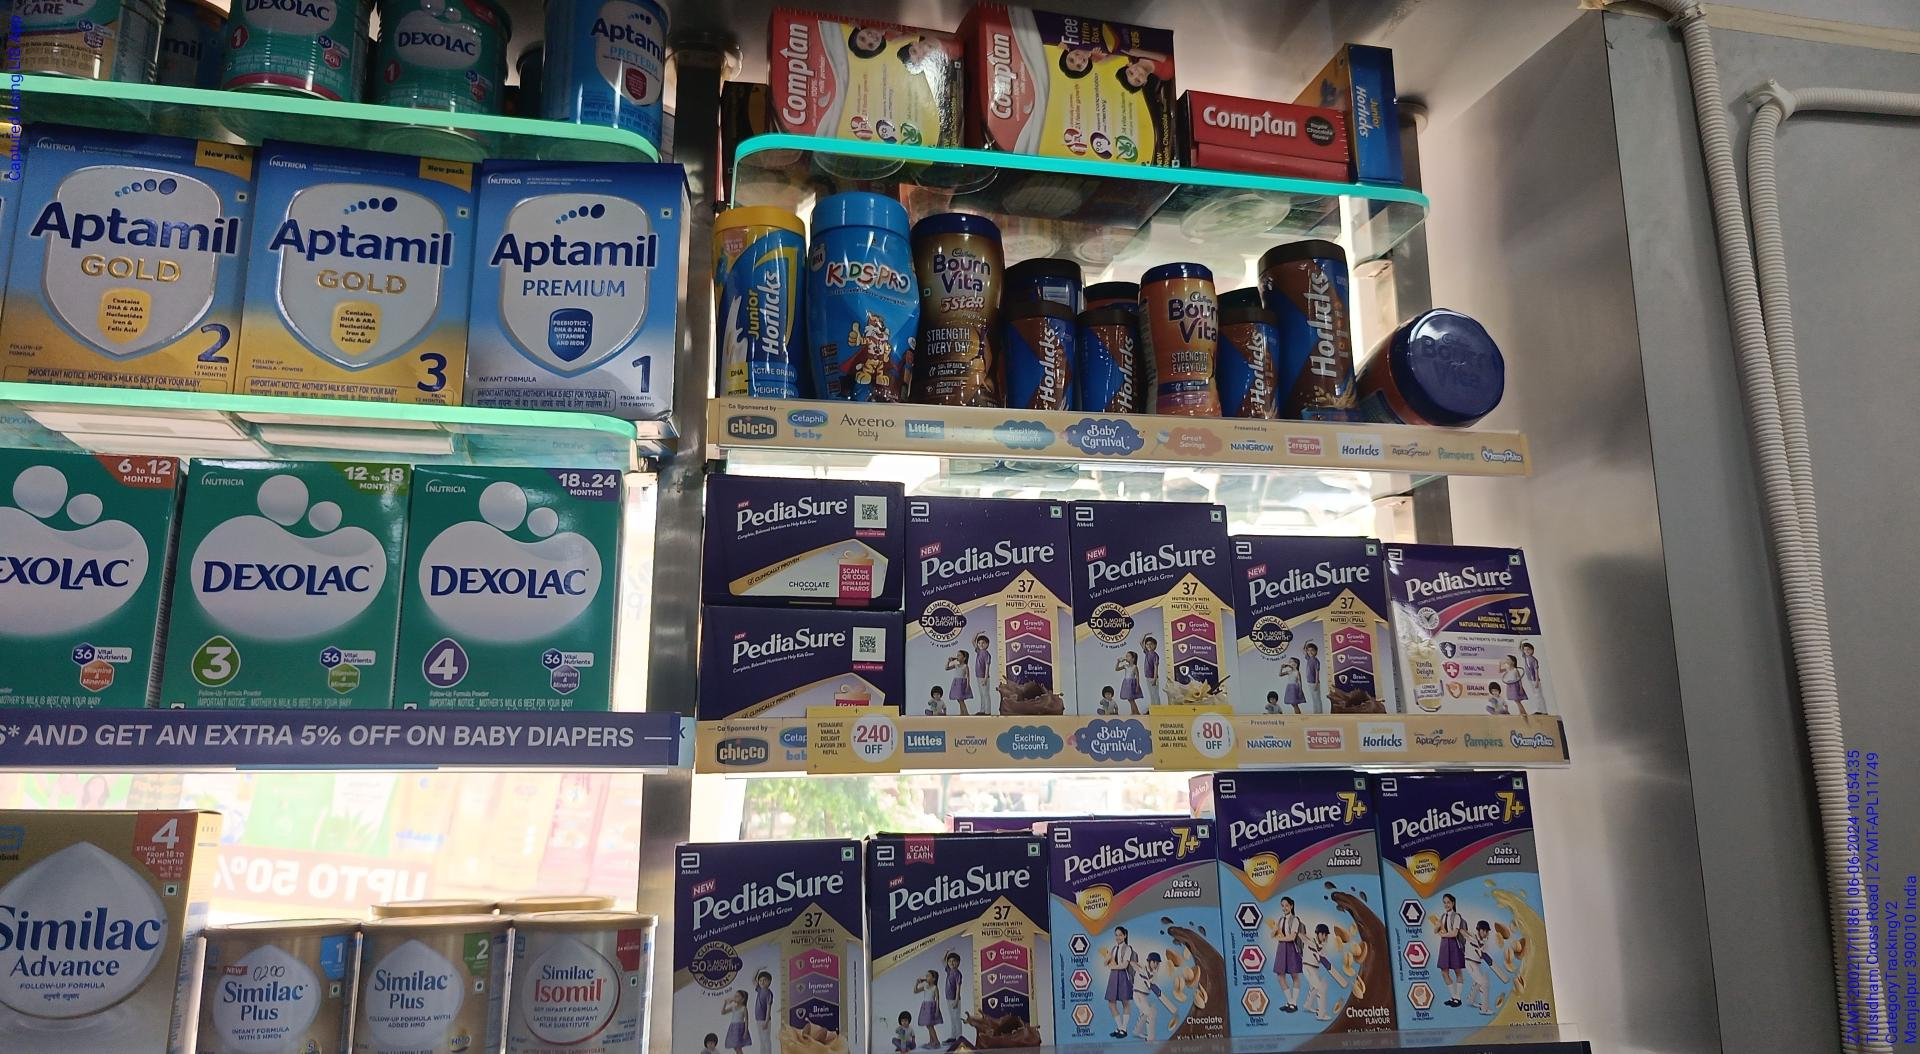PEDIASURE_7_PLUS_CHOCOLATE_400_G_PACK: (1055, 811, 1214, 1054)
PEDIASURE_CHOCOLATE_500_G_PACK: (911, 495, 1074, 722), (874, 835, 1043, 1054), (1236, 523, 1413, 715)
PEDIASURE_VANILLA_500_G_PACK: (658, 835, 860, 1054), (1069, 501, 1222, 714)
